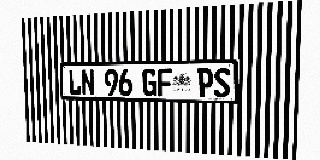6: (118, 69, 132, 96)
9: (104, 69, 118, 96)
F: (157, 68, 172, 97)
G: (142, 69, 157, 96)
L: (68, 69, 81, 95)
N: (81, 69, 94, 95)
P: (197, 68, 213, 97)
S: (214, 68, 230, 98)
